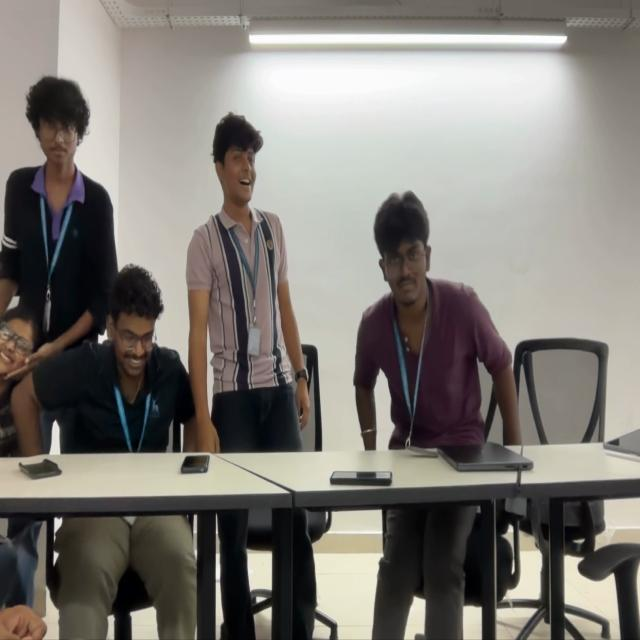Isolated: (353, 193, 522, 444)
socializing: (0, 73, 311, 452)
